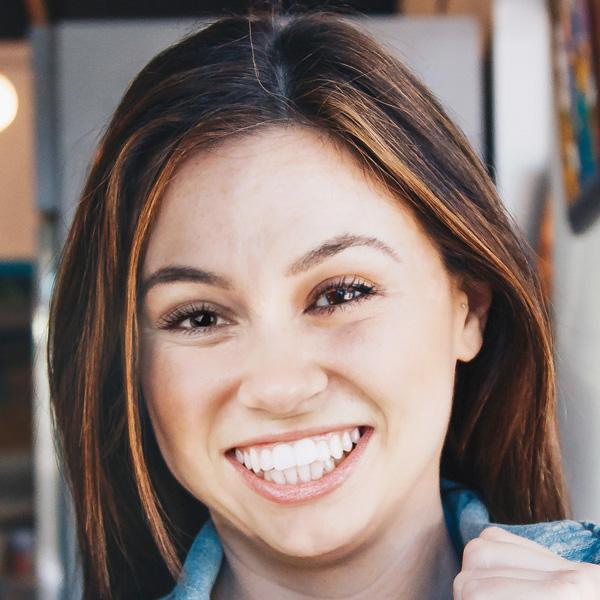Eyes: (301, 263, 394, 321), (148, 295, 245, 347)
